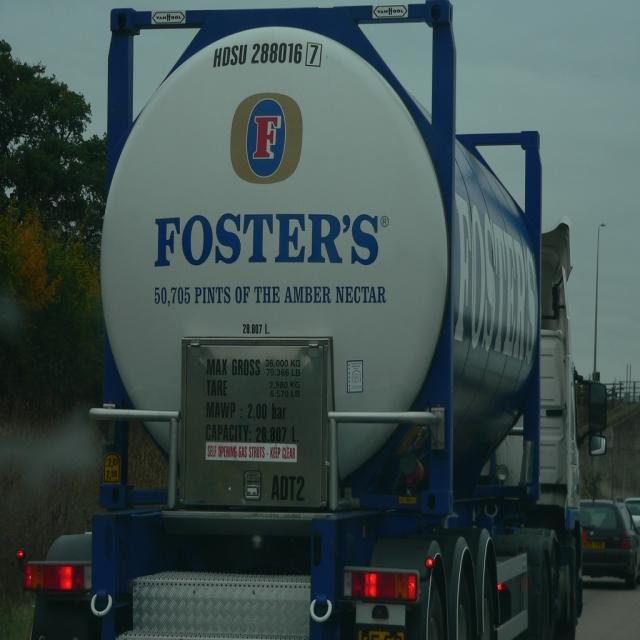fosters: (229, 92, 305, 188)
